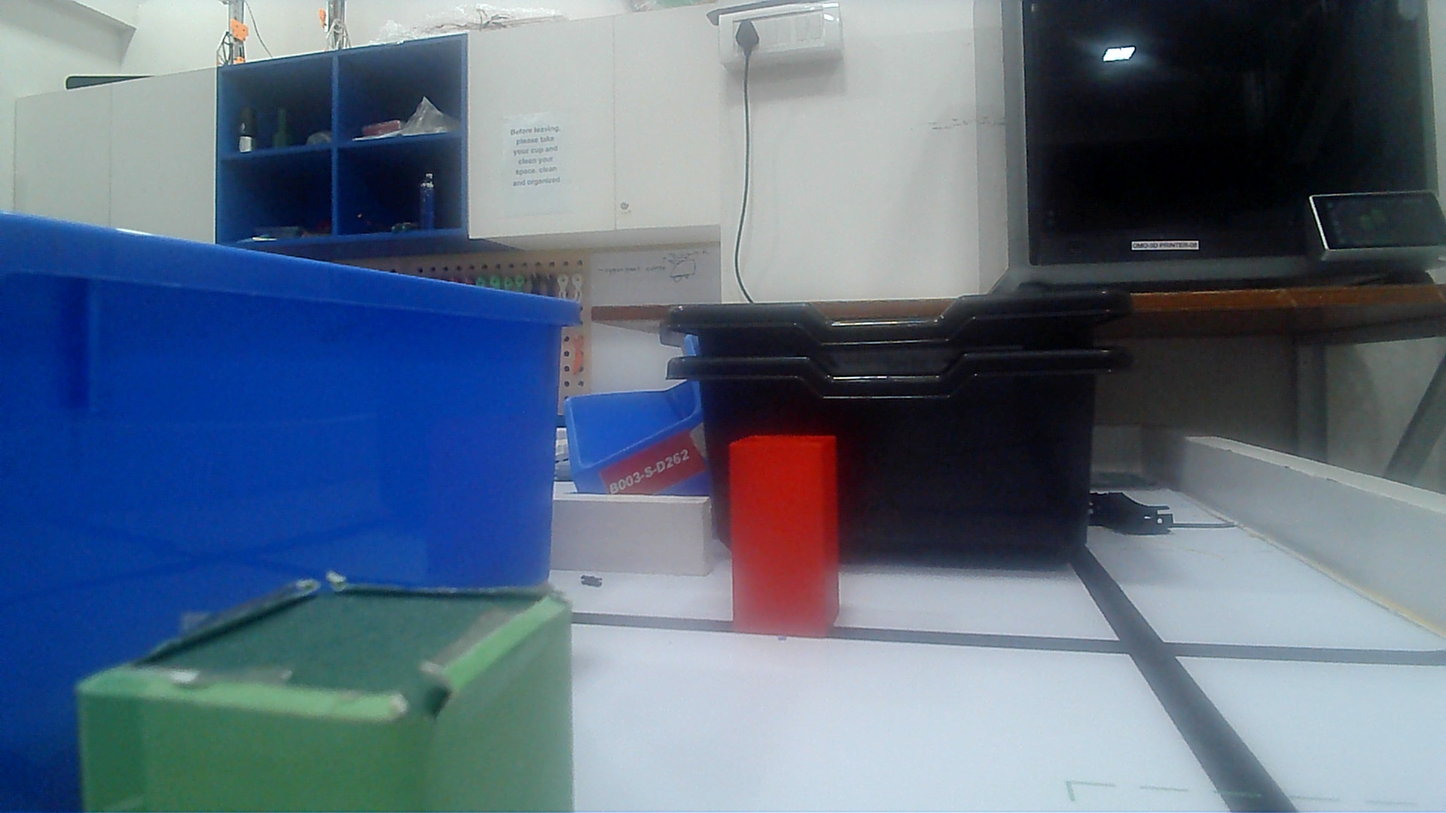red: (731, 437, 836, 631)
